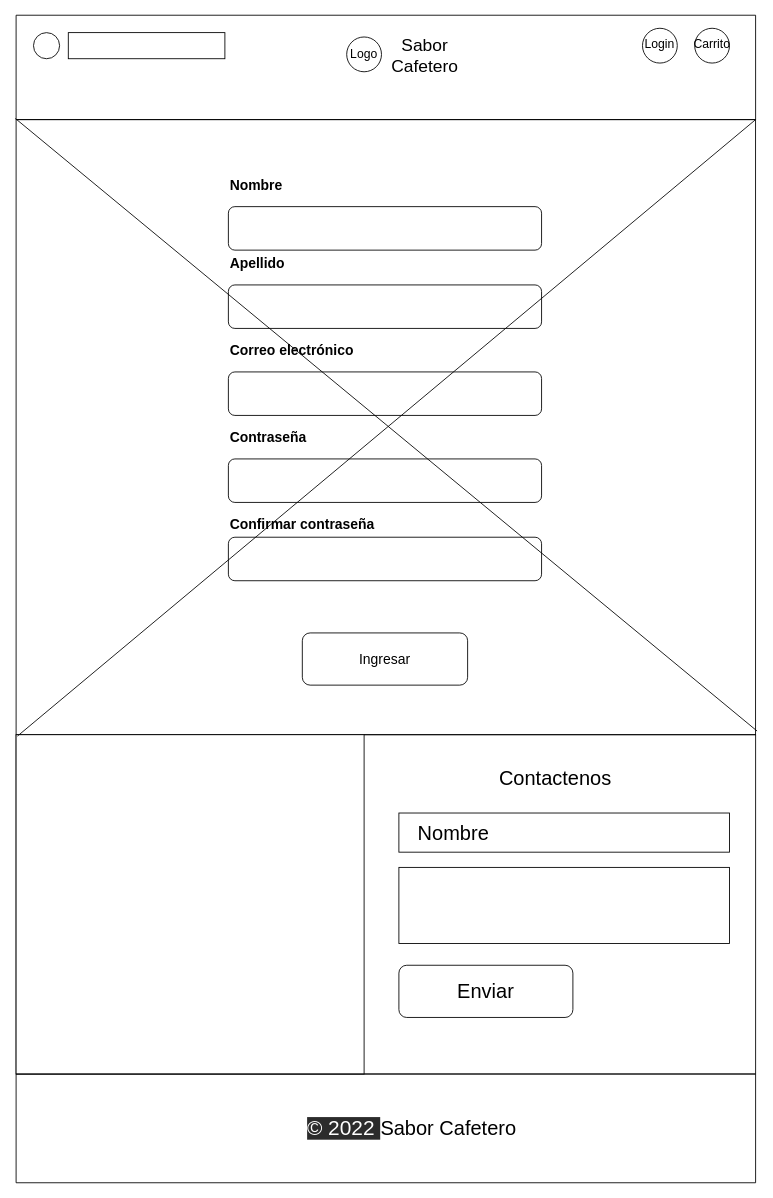
The diagram is 773 pixels wide and 1198 high, and some of its shapes have lost their labels. The centre of each missing label's shape, as x and y in pixels:
"Buscar" belongs at (146,45).
"Imagen decorativa" belongs at (189,904).
"img" belongs at (46,45).
"Mensaje" belongs at (563,905).
